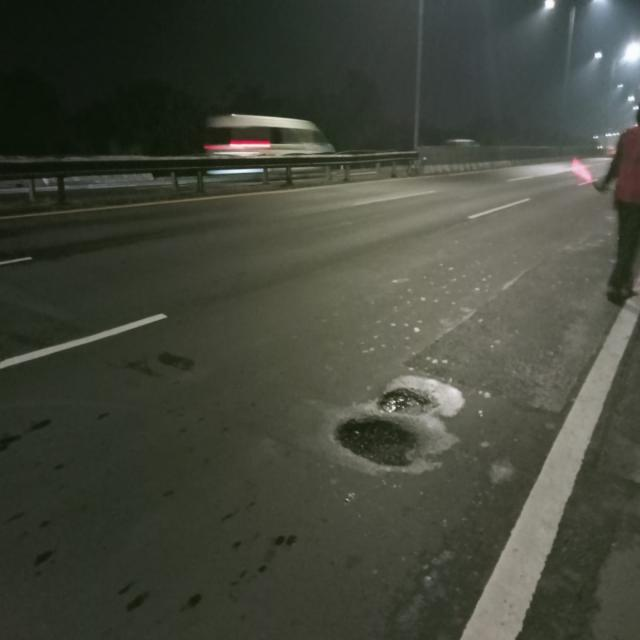Buraco: (332, 417, 421, 469), (373, 386, 443, 418), (119, 355, 164, 380), (156, 348, 198, 373)
